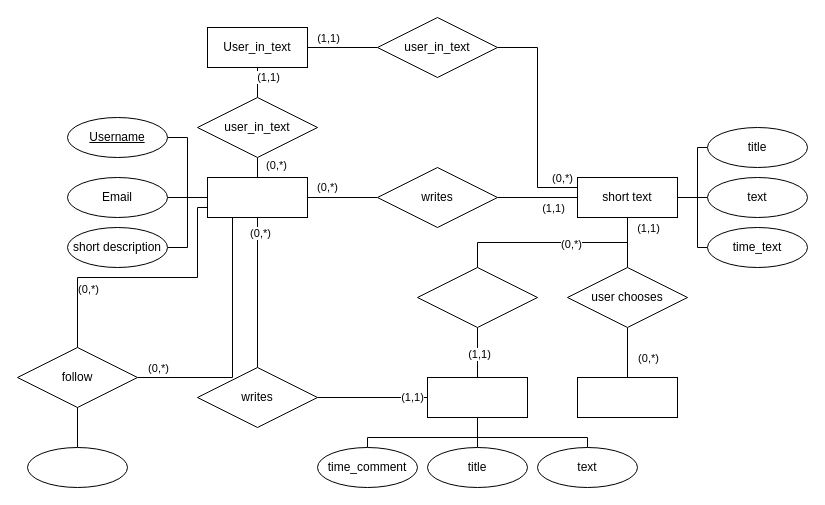
Some shapes in this 825 by 505 pixel diagram are drawn without their labels. The shapes that lost their labels are listed below. From the top down, each one's box as (x1, y1, x2, y2) in pixels, then its label:
(206, 176, 308, 218): User
(416, 266, 538, 328): user writes
(426, 376, 528, 418): comment
(576, 376, 678, 418): Thema
(26, 446, 128, 488): time of followhsip
